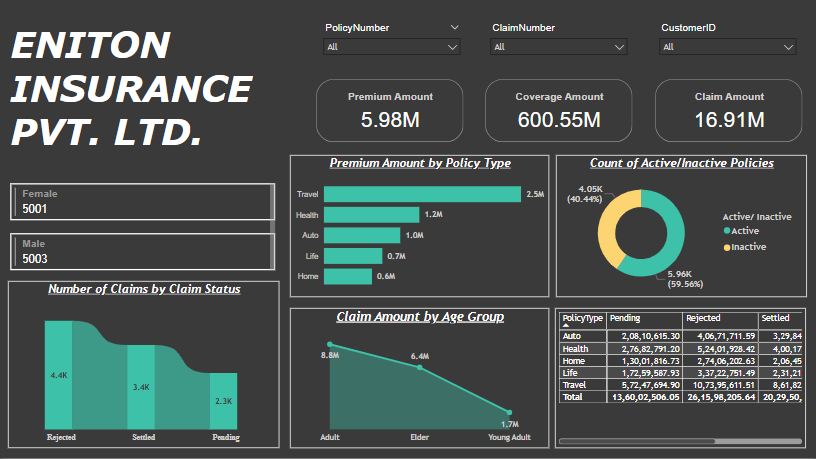

Layout of this report page (visuals, bound fields, positions):
{"tool":"powerbi","page":{"name":"Report","canvas":[1280,720],"ordinal":0},"visuals":[{"type":"slicer","fields":{"Values":["InsuranceData.PolicyNumber"]},"box":[498,34,234,80],"z":0},{"type":"slicer","fields":{"Values":["InsuranceData.ClaimNumber"]},"box":[760,34,234,80],"z":1000},{"type":"slicer","fields":{"Values":["InsuranceData.CustomerID"]},"box":[1024,34,234,80],"z":2000},{"type":"textbox","box":[13.6,33.9,422,300],"z":3000},{"type":"cardVisual","fields":{"Data":["Sum(InsuranceData.PremiumAmount)"]},"box":[492,124,240,108],"z":4000},{"type":"cardVisual","fields":{"Data":["Sum(InsuranceData.CoverageAmount)"]},"box":[756,124,240,108],"z":5000},{"type":"cardVisual","fields":{"Data":["Sum(InsuranceData.ClaimAmount)"]},"box":[1022,124,240,108],"z":6000},{"type":"multiRowCard","fields":{"Values":["InsuranceData.Gender","CountNonNull(InsuranceData.Gender)"]},"box":[13.6,286.4,423.7,157.6],"z":7000},{"type":"ribbonChart","title":"Number of Claims by Claim Status","fields":{"Category":["InsuranceData.ClaimStatus"],"Y":["CountNonNull(InsuranceData.ClaimStatus)"]},"box":[15.3,444.1,423.7,261],"z":8000},{"type":"barChart","title":"Premium Amount by Policy Type","fields":{"Category":["InsuranceData.PolicyType"],"Y":["Sum(InsuranceData.PremiumAmount)"]},"box":[455.9,247.5,405.1,222],"z":9000},{"type":"lineChart","title":"Claim Amount by Age Group","fields":{"Category":["InsuranceData.Age Group"],"Y":["Sum(InsuranceData.ClaimAmount)"]},"box":[455.9,486.4,405.1,218.6],"z":10000},{"type":"donutChart","title":"Count of Active/Inactive Policies","fields":{"Category":["InsuranceData.Active/Inactive"],"Y":["CountNonNull(InsuranceData.Active/Inactive)"]},"box":[871.2,247.5,391.5,222],"z":11000},{"type":"pivotTable","fields":{"Values":["Sum(InsuranceData.CoverageAmount)"],"Rows":["InsuranceData.PolicyType"],"Columns":["InsuranceData.ClaimStatus"]},"box":[871,486,392,219],"z":12000}]}

Visuals, with their boxes in screenshot pixels (x1, y1, x2, y2), scaled from the page's 1280x720 canvas onto the 816x459 screenshot:
slicer - InsuranceData.PolicyNumber: locate(317, 22, 467, 73)
slicer - InsuranceData.ClaimNumber: locate(484, 22, 634, 73)
slicer - InsuranceData.CustomerID: locate(653, 22, 802, 73)
textbox: locate(9, 22, 278, 213)
cardVisual - Sum(InsuranceData.PremiumAmount): locate(314, 79, 467, 148)
cardVisual - Sum(InsuranceData.CoverageAmount): locate(482, 79, 635, 148)
cardVisual - Sum(InsuranceData.ClaimAmount): locate(652, 79, 805, 148)
multiRowCard - InsuranceData.Gender x CountNonNull(InsuranceData.Gender): locate(9, 183, 279, 283)
"Number of Claims by Claim Status" ribbonChart: locate(10, 283, 280, 450)
"Premium Amount by Policy Type" barChart: locate(291, 158, 549, 299)
"Claim Amount by Age Group" lineChart: locate(291, 310, 549, 449)
"Count of Active/Inactive Policies" donutChart: locate(555, 158, 805, 299)
pivotTable - Sum(InsuranceData.CoverageAmount) x InsuranceData.PolicyType: locate(555, 310, 805, 449)
